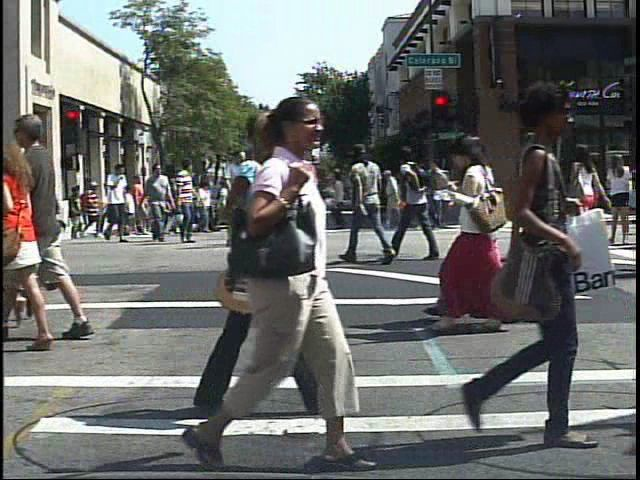person: (179, 82, 365, 478), (436, 79, 603, 462), (422, 130, 537, 344), (13, 101, 98, 344), (5, 126, 60, 351), (342, 135, 400, 272), (474, 128, 509, 343), (393, 140, 448, 265), (519, 128, 564, 262), (564, 136, 606, 261), (221, 146, 257, 250), (607, 147, 637, 244), (143, 158, 175, 245), (171, 158, 203, 245), (103, 161, 132, 245), (383, 164, 408, 236), (80, 180, 104, 243), (79, 183, 99, 228)
